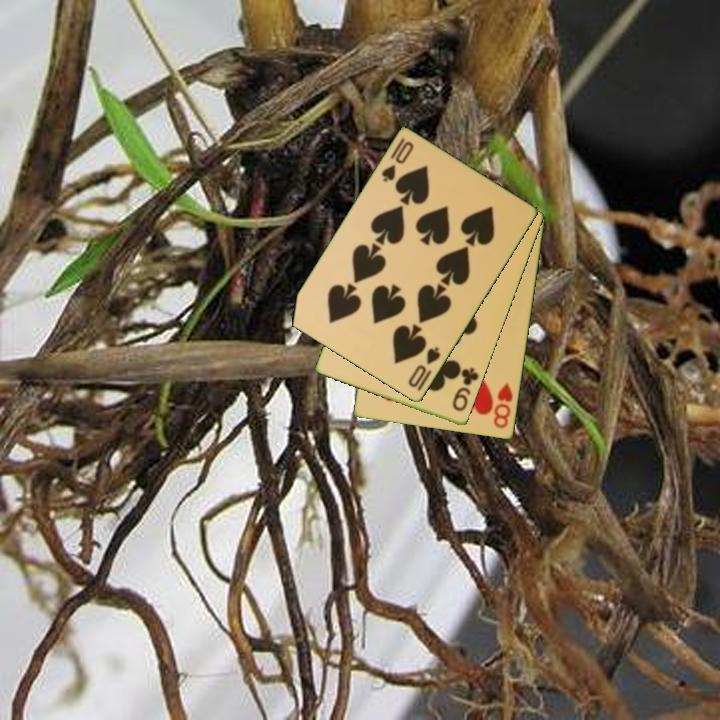10s: (378, 135, 417, 185), (405, 343, 444, 391)
8h: (490, 379, 516, 432)
9c: (449, 364, 482, 415)
